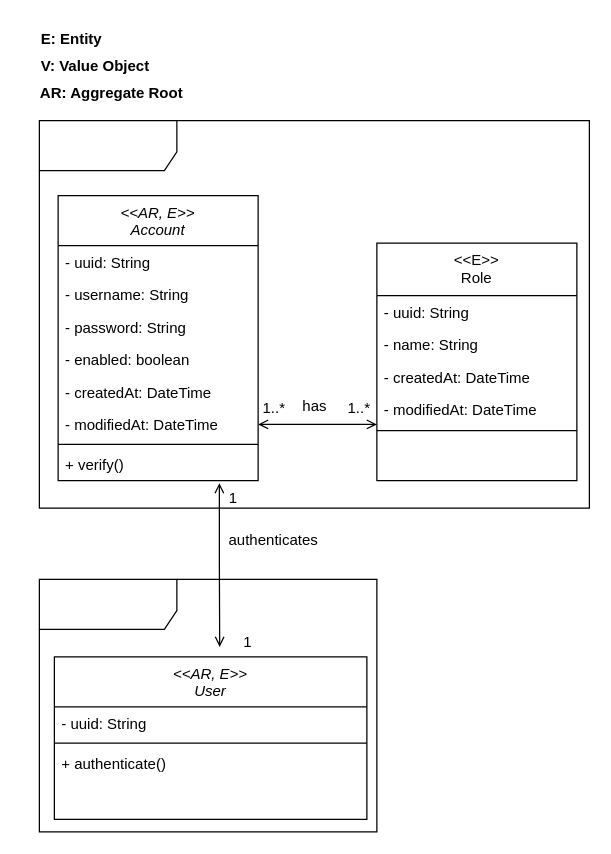
This 611x854 diagram has some shape labels left out. The box of each missing label's shape, as (x1, y1, x2, y2) in pixels:
Authentication Bounded Context: (38, 119, 589, 508)
User Bounded Context: (38, 578, 377, 832)
